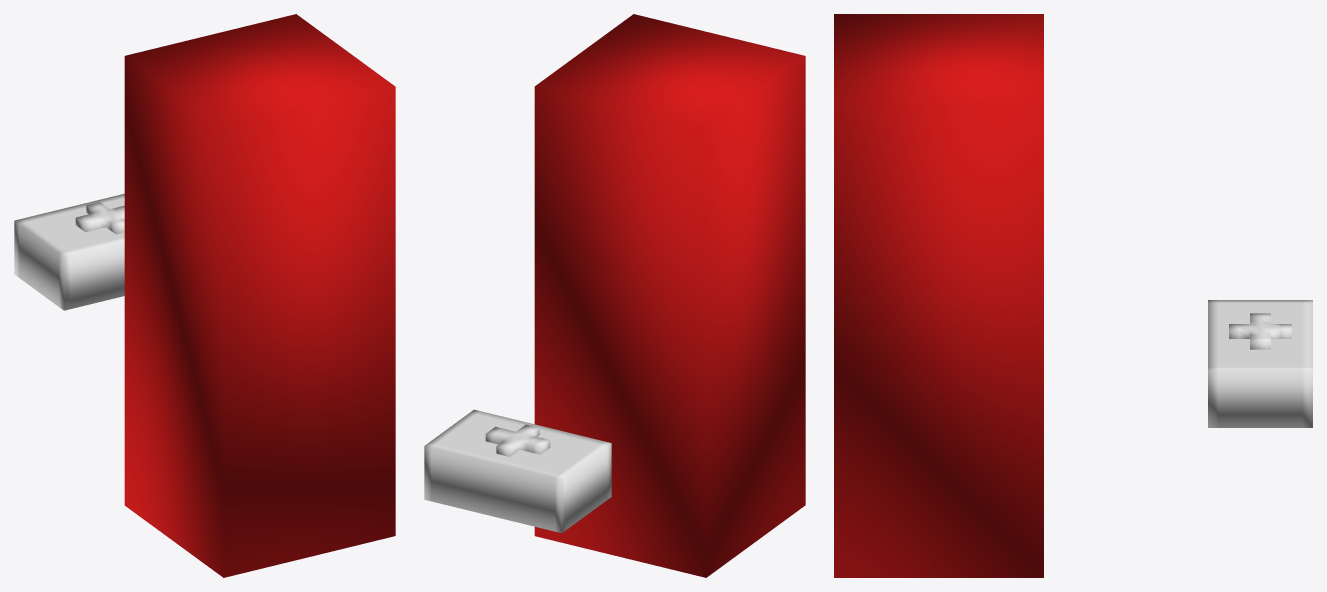
The model's file is medikit.fbx.
The picture shows the model from 3 angles, left to right: view 1: azimuth 30°, elevation 25°; view 2: azimuth 150°, elevation 25°; view 3: azimuth 270°, elevation 25°; orthographic projection. The views are drawn at different scales.
Parts seen in each view (by area): view 1: Cubo, Cubo.2; view 2: Cubo, Cubo.2; view 3: Cubo, Cubo.2.
Part boxes in pixels (x1,y1,x2,y2): Cubo: (124,14,395,577); Cubo.2: (14,193,124,310); Cubo: (534,14,805,577); Cubo.2: (424,409,611,533); Cubo: (834,14,1043,577); Cubo.2: (1208,300,1312,427).
Bounding box in the file's own units: 100 × 250 × 228.
